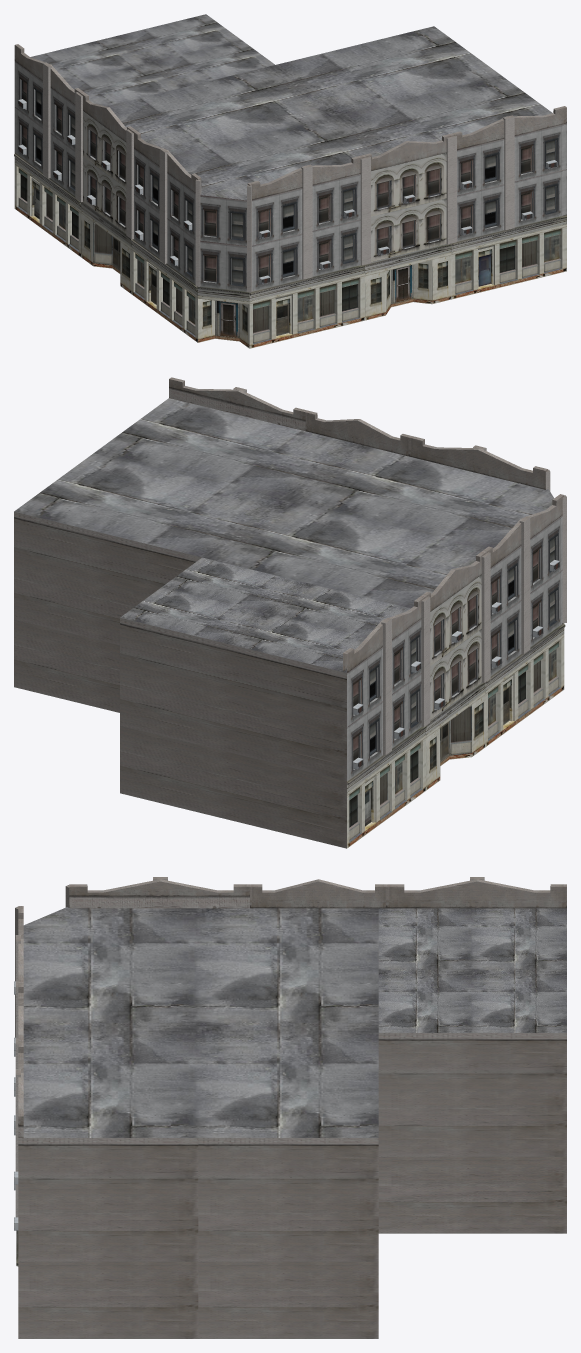
The model's file is Building7.glb.
The picture shows the model from 3 angles, top to bottom: view 1: azimuth 30°, elevation 25°; view 2: azimuth 150°, elevation 25°; view 3: azimuth 270°, elevation 25°; orthographic projection. The views are drawn at different scales.
Visible parts, largest first — view 1: Brownstone_Lowrise_1_C_Brownstone_Facade_Flr_4_0, Brownstone_Lowrise_1_C_Brownstone_Facade_FLR_7_0; view 2: Brownstone_Lowrise_1_C_Brownstone_Facade_Flr_4_0, Brownstone_Lowrise_1_C_Brownstone_Facade_FLR_7_0; view 3: Brownstone_Lowrise_1_C_Brownstone_Facade_Flr_4_0.
Boxes of the visible parts, x1=… form: Brownstone_Lowrise_1_C_Brownstone_Facade_Flr_4_0: x1=14, y1=14, x2=566, y2=301; Brownstone_Lowrise_1_C_Brownstone_Facade_FLR_7_0: x1=14, y1=99, x2=566, y2=348; Brownstone_Lowrise_1_C_Brownstone_Facade_Flr_4_0: x1=14, y1=377, x2=566, y2=848; Brownstone_Lowrise_1_C_Brownstone_Facade_FLR_7_0: x1=347, y1=560, x2=564, y2=848; Brownstone_Lowrise_1_C_Brownstone_Facade_Flr_4_0: x1=15, y1=877, x2=566, y2=1338.
Bounding box in the file's own units: 30.69 × 13.99 × 30.68.
Materials: 2 (2 with a texture image).
